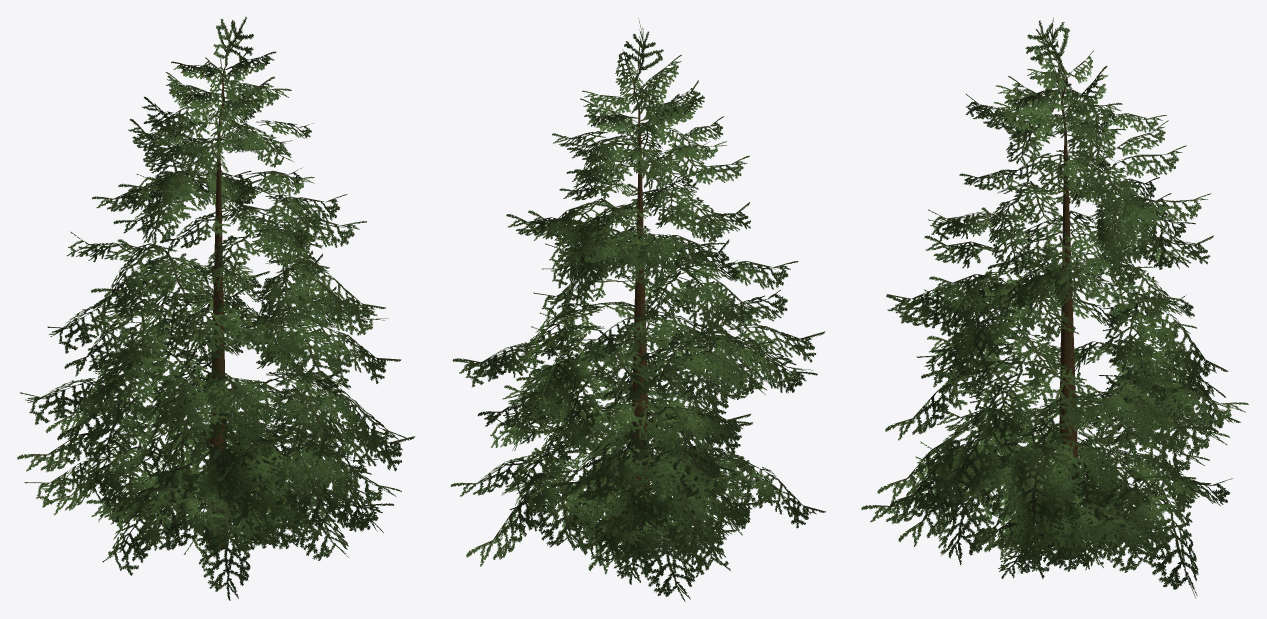
Rendered from baum_fichte_5_lod1.glb.
The picture shows the model from 3 angles, left to right: view 1: azimuth 30°, elevation 25°; view 2: azimuth 150°, elevation 25°; view 3: azimuth 270°, elevation 25°; orthographic projection. The views are drawn at different scales.
Parts seen in each view (by area): view 1: Krone, Stamm; view 2: Krone, Stamm; view 3: Krone, Stamm.
Boxes of the visible parts, box(x1,y1,x2,y2) form: Krone: box(17, 16, 415, 600); Stamm: box(207, 66, 228, 548); Krone: box(450, 18, 825, 601); Stamm: box(629, 81, 649, 555); Krone: box(861, 17, 1248, 598); Stamm: box(1057, 72, 1080, 558).
Size of the model in its own units: 7.84 by 12 by 7.87.
Materials: 2 (2 with a texture image).
